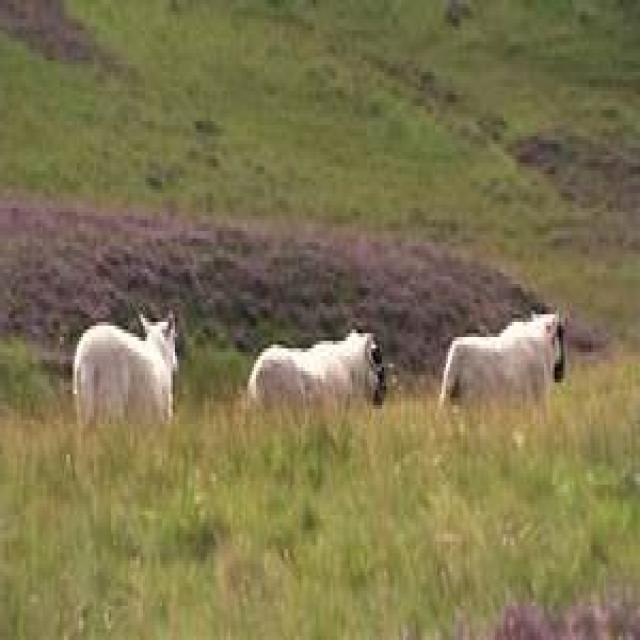sheep: (440, 306, 568, 416), (73, 307, 179, 428), (248, 326, 388, 412)
